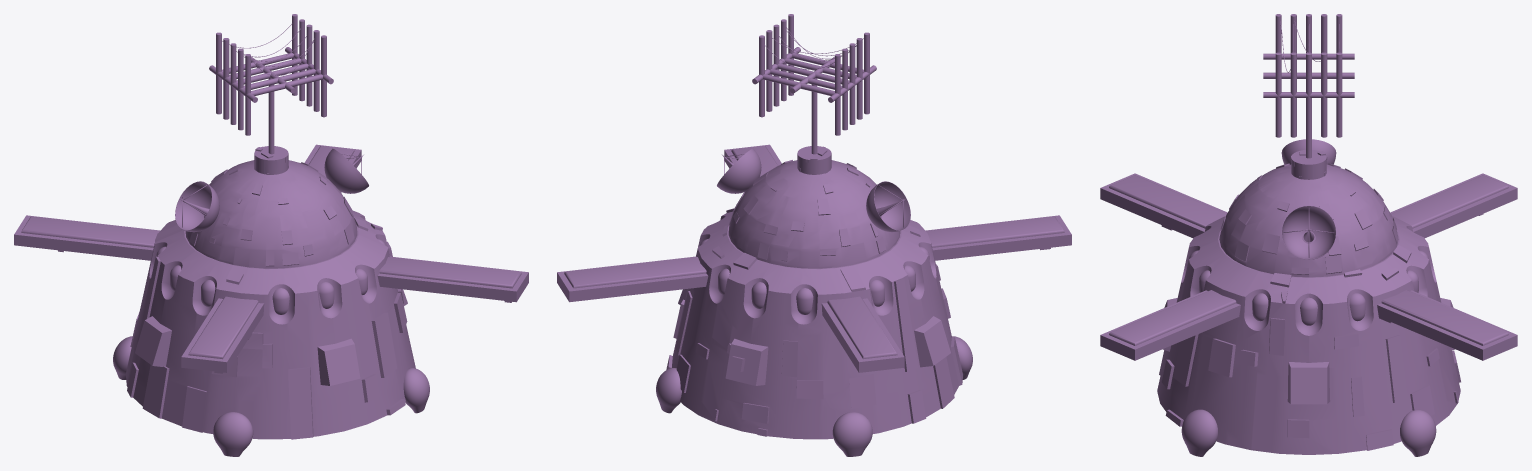
Rendered from ufo.gltf.
The picture shows the model from 3 angles, left to right: view 1: azimuth 30°, elevation 25°; view 2: azimuth 150°, elevation 25°; view 3: azimuth 270°, elevation 25°; orthographic projection. The views are drawn at different scales.
Parts seen in each view (by area): view 1: Cylinder; view 2: Cylinder; view 3: Cylinder.
Part boxes in pixels (box(x1,y1,x2,y2)): Cylinder: box(14, 14, 528, 456); Cylinder: box(557, 14, 1071, 456); Cylinder: box(1100, 14, 1517, 456).
Bounding box in the file's own units: 2.75 × 2.72 × 2.75.
